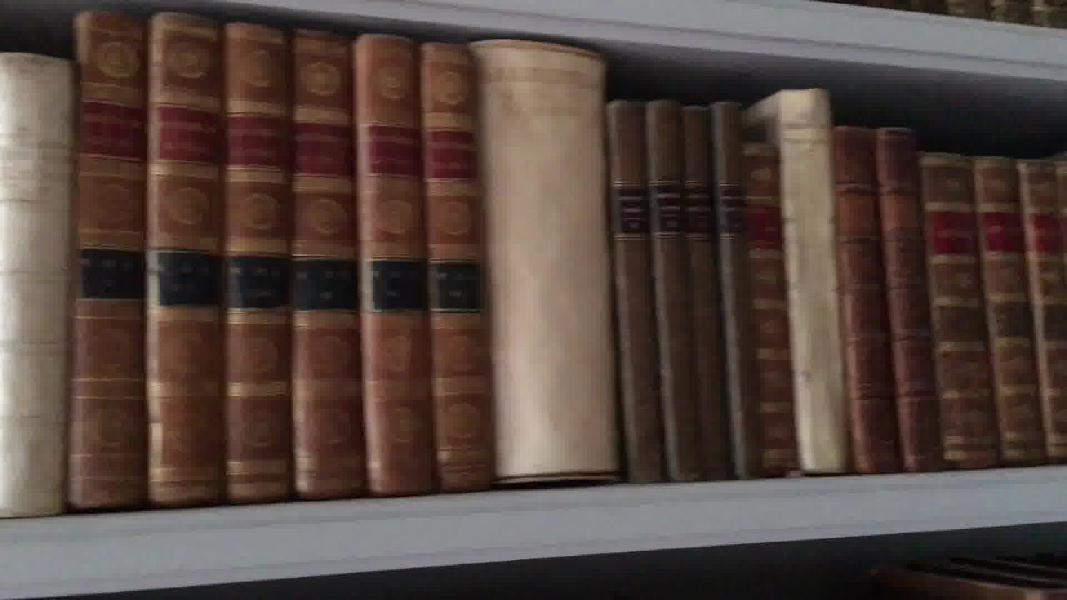Kk4-14: (482, 34, 623, 491)
Kk4-15_16: (604, 88, 688, 484)
Kk4-17_18: (682, 69, 748, 494)
Kk4-19: (751, 122, 794, 472)
Kk4-20: (782, 91, 844, 472)
Kk4-21_22: (832, 116, 932, 481)
Kk4-8_13: (69, 3, 501, 513)
